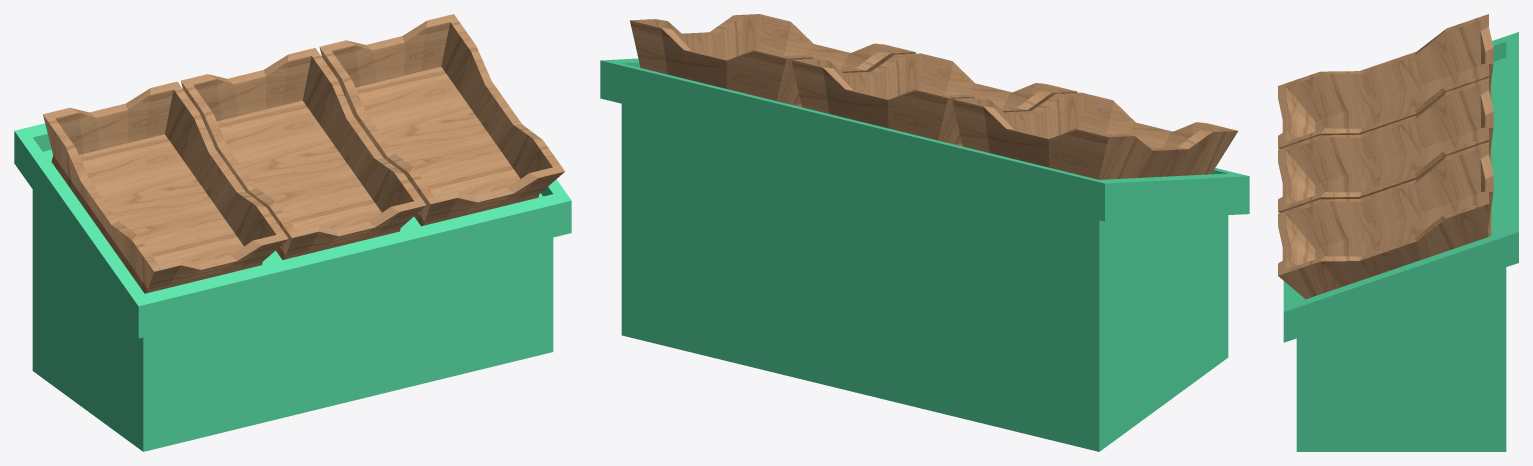
Rendered from Rak Buah.fbx.
3 views of the same model, side by side, from view 1: azimuth 30°, elevation 25°; view 2: azimuth 150°, elevation 25°; view 3: azimuth 270°, elevation 25° (orthographic). The views are drawn at different scales.
Parts seen in each view (by area): view 1: Cube.010, Cube.011, Cube.009, Cube.004; view 2: Cube.010, Cube.011, Cube.009, Cube.004; view 3: Cube.010, Cube.009, Cube.004, Cube.011.
Boxes of the visible parts, x1=… form: Cube.010: x1=14, y1=56, x2=571, y2=451; Cube.011: x1=43, y1=81, x2=288, y2=293; Cube.009: x1=319, y1=14, x2=564, y2=226; Cube.004: x1=181, y1=48, x2=426, y2=259; Cube.010: x1=600, y1=58, x2=1249, y2=451; Cube.011: x1=952, y1=92, x2=1238, y2=179; Cube.009: x1=630, y1=14, x2=915, y2=107; Cube.004: x1=791, y1=53, x2=1077, y2=146; Cube.010: x1=1283, y1=32, x2=1518, y2=451; Cube.009: x1=1278, y1=142, x2=1493, y2=299; Cube.004: x1=1278, y1=77, x2=1493, y2=212; Cube.011: x1=1278, y1=14, x2=1493, y2=148.
Bounding box in the file's own units: 256 × 148 × 130.
Materials: 2 (1 with a texture image).
